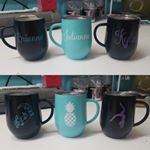cups: (1, 89, 55, 141), (1, 13, 56, 63), (98, 90, 150, 141), (53, 89, 101, 139), (93, 14, 143, 61), (48, 16, 95, 61)
